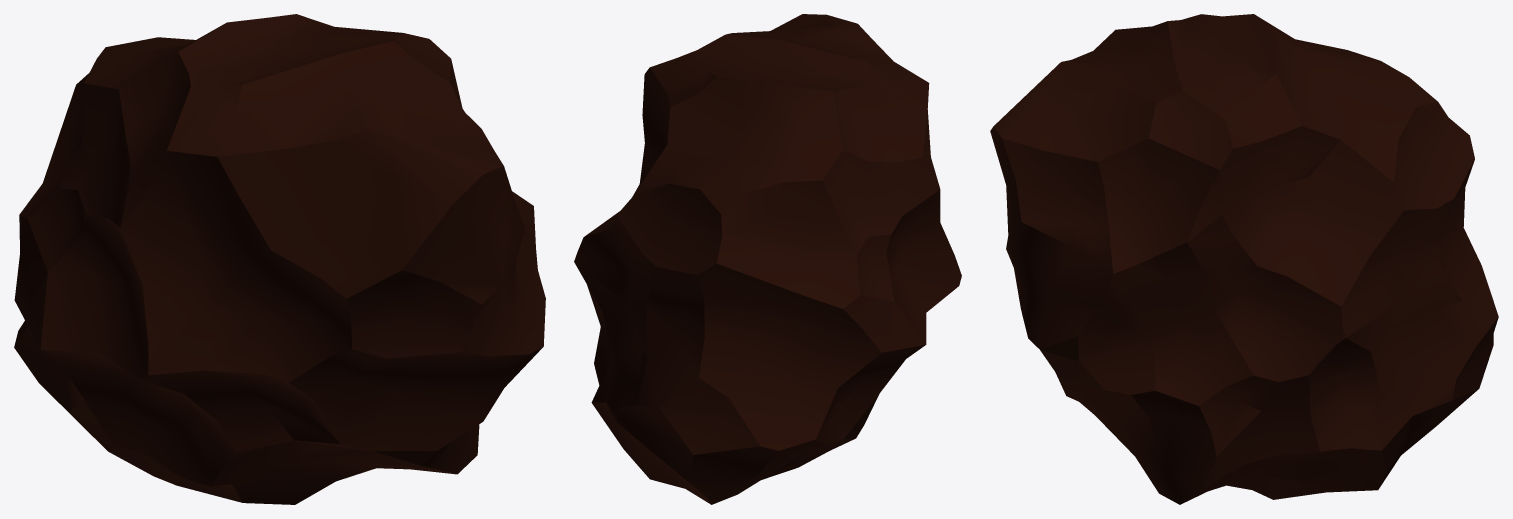
Rendered from Asteroid4.obj.
3 renders of one model, left to right at view 1: azimuth 30°, elevation 25°; view 2: azimuth 150°, elevation 25°; view 3: azimuth 270°, elevation 25°, orthographic. The views are drawn at different scales.
Visible parts, largest first — view 1: Asteroid4; view 2: Asteroid4; view 3: Asteroid4.
Part boxes in pixels (x1,y1,x2,y2): Asteroid4: [14, 14, 545, 504]; Asteroid4: [574, 14, 961, 504]; Asteroid4: [990, 14, 1498, 504].
Size of the model in its own units: 13.05 by 15.39 by 16.3.
